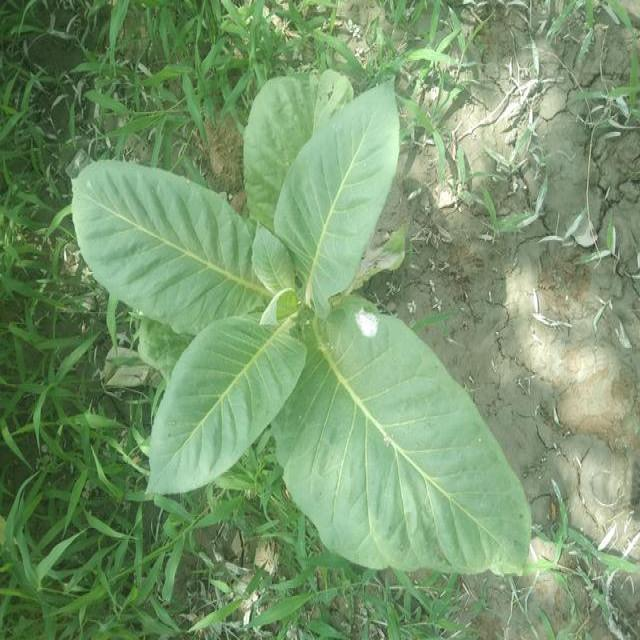crop: (67, 71, 536, 584)
